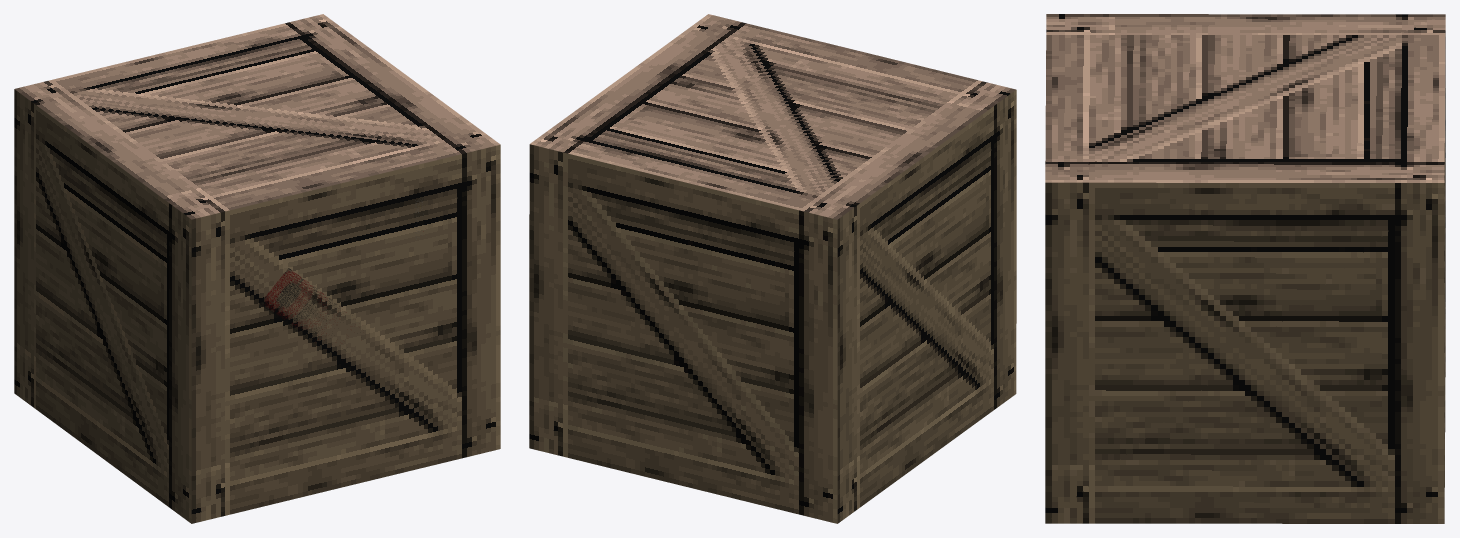
The model's file is primary_090.glb.
3 renders of one model, left to right at view 1: azimuth 30°, elevation 25°; view 2: azimuth 150°, elevation 25°; view 3: azimuth 270°, elevation 25°, orthographic. The views are drawn at different scales.
Parts seen in each view (by area): view 1: Object; view 2: Object; view 3: Object.
Part boxes in pixels (bbox=[...]): Object: bbox=[14, 14, 500, 523]; Object: bbox=[529, 14, 1016, 523]; Object: bbox=[1045, 14, 1445, 523].
Size of the model in its own units: 1.36 by 1.28 by 1.36.
Materials: 7 (7 with a texture image).
